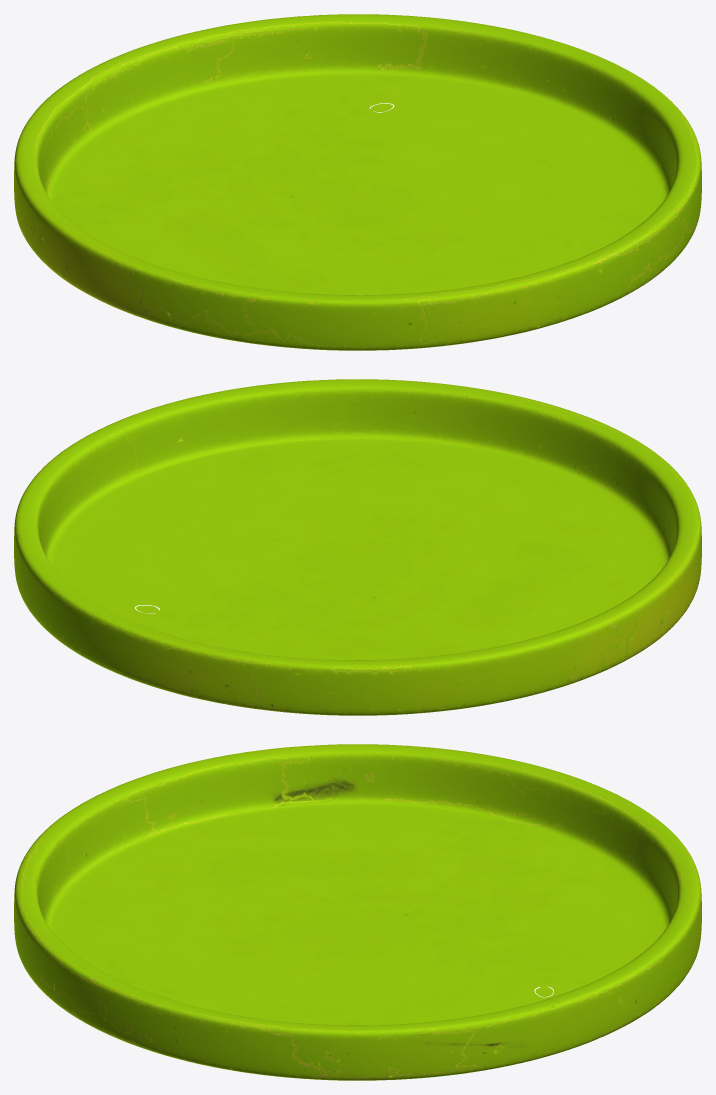
3 views of the same model, one above another, from view 1: azimuth 30°, elevation 25°; view 2: azimuth 150°, elevation 25°; view 3: azimuth 270°, elevation 25° (orthographic).
Size of the model in its own units: 2 by 0.1816 by 2.
Materials: 1 (1 with a texture image).
